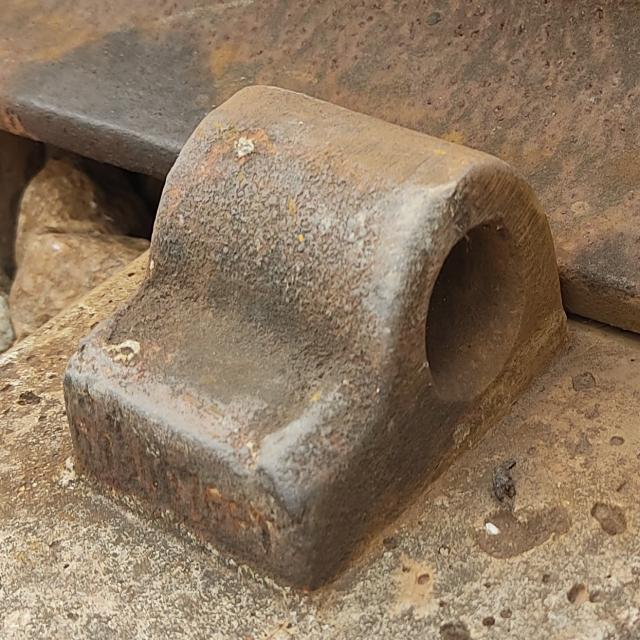track_bolt_missing: (143, 79, 560, 398)
